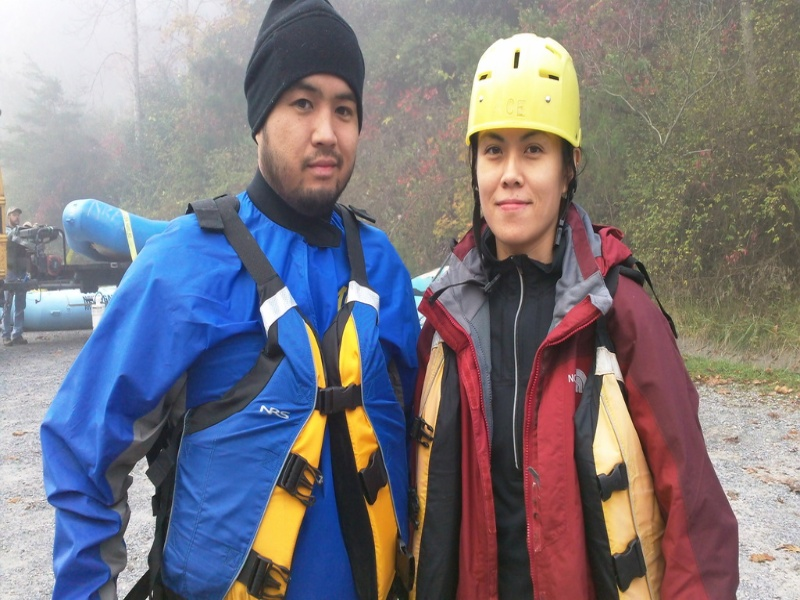Baret: (467, 32, 583, 145)
